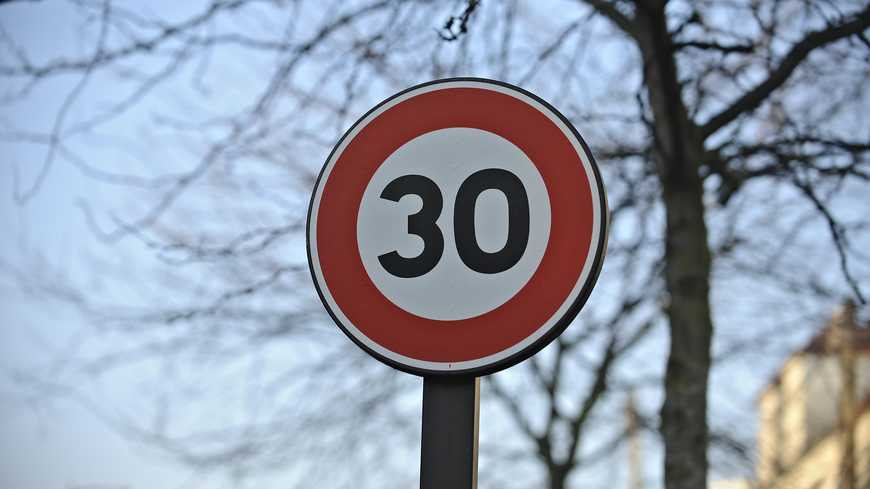Speed_limit_30km: (305, 76, 610, 375)
